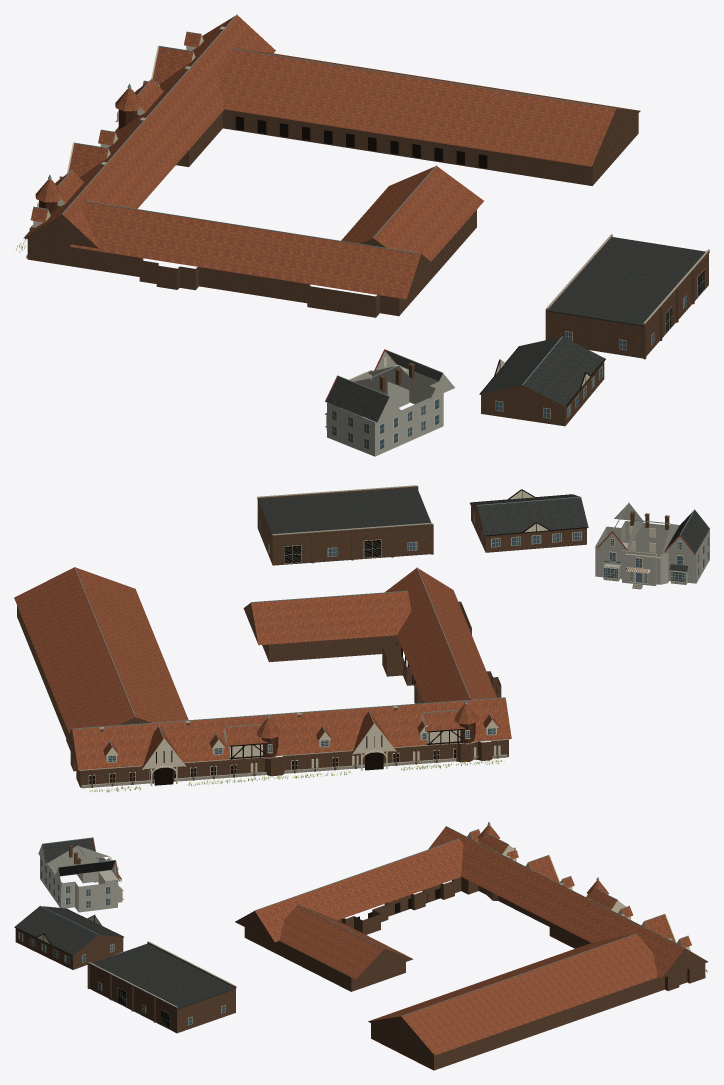
The model's file is historic-houses.glb.
3 renders of one model, top to bottom at view 1: azimuth 30°, elevation 25°; view 2: azimuth 150°, elevation 25°; view 3: azimuth 270°, elevation 25°, orthographic. The views are drawn at different scales.
Parts seen in each view (by area): view 1: Former stable yard Stable terracotta tiles, Former stable yard Stable varied red brown brick, Central workshop House weathered slate, White House House painted clapboard, Central workshop Stable varied red brown brick, Golightly Annex House weathered slate, Golightly Annex Stable varied red brown brick, White House House weathered slate, Former stable yard Weathered gutter and finial, Former stable yard Stable dark oak framing, White House Recessed blue grey glazing; view 2: Former stable yard Stable terracotta tiles, Former stable yard Stable varied red brown brick, Central workshop House weathered slate, Central workshop Stable varied red brown brick, White House House painted clapboard, Former stable yard Warm ivory trim, Golightly Annex House weathered slate, Former stable yard Stable dark oak framing, Golightly Annex Stable varied red brown brick, Former stable yard Weathered gutter and finial, Former stable yard Aged foundation stone, White House Warm ivory trim (+6 smaller); view 3: Former stable yard Stable terracotta tiles, Former stable yard Stable varied red brown brick, Central workshop House weathered slate, Central workshop Stable varied red brown brick, White House House painted clapboard, Golightly Annex House weathered slate, Golightly Annex Stable varied red brown brick, Former stable yard Weathered gutter and finial, White House House weathered slate, Former stable yard Warm ivory trim.
Part boxes in pixels (x1,y1,x2,y2): Former stable yard Stable terracotta tiles: (24, 15, 638, 299); Former stable yard Stable varied red brown brick: (24, 29, 640, 317); Central workshop House weathered slate: (548, 237, 705, 326); White House House painted clapboard: (325, 351, 454, 456); Central workshop Stable varied red brown brick: (545, 236, 709, 359); Golightly Annex House weathered slate: (479, 337, 605, 406); Golightly Annex Stable varied red brown brick: (480, 362, 604, 426); White House House weathered slate: (326, 351, 442, 422); Former stable yard Weathered gutter and finial: (33, 14, 616, 253); Former stable yard Stable dark oak framing: (45, 111, 487, 202); White House Recessed blue grey glazing: (332, 399, 439, 449); Former stable yard Stable terracotta tiles: (14, 567, 511, 770); Former stable yard Stable varied red brown brick: (17, 601, 508, 787); Central workshop House weathered slate: (257, 488, 430, 537); Central workshop Stable varied red brown brick: (257, 486, 433, 565); White House House painted clapboard: (595, 503, 709, 585); Former stable yard Warm ivory trim: (79, 713, 509, 785); Golightly Annex House weathered slate: (470, 494, 588, 536); Former stable yard Stable dark oak framing: (89, 647, 462, 785); Golightly Annex Stable varied red brown brick: (470, 503, 586, 552); Former stable yard Weathered gutter and finial: (72, 567, 505, 747); Former stable yard Aged foundation stone: (81, 705, 507, 788); White House Warm ivory trim: (603, 526, 708, 583); Former stable yard Stable terracotta tiles: (255, 825, 691, 1055); Former stable yard Stable varied red brown brick: (235, 858, 708, 1070); Central workshop House weathered slate: (92, 943, 235, 1009); Central workshop Stable varied red brown brick: (87, 942, 236, 1033); White House House painted clapboard: (38, 844, 123, 912); Golightly Annex House weathered slate: (14, 906, 124, 955); Golightly Annex Stable varied red brown brick: (15, 928, 123, 969); Former stable yard Weathered gutter and finial: (254, 821, 688, 1016); White House House weathered slate: (42, 838, 114, 875); Former stable yard Warm ivory trim: (467, 833, 689, 950).
Bounding box in the file's own units: 117 × 12.48 × 159.
15 materials, 6 textured.
